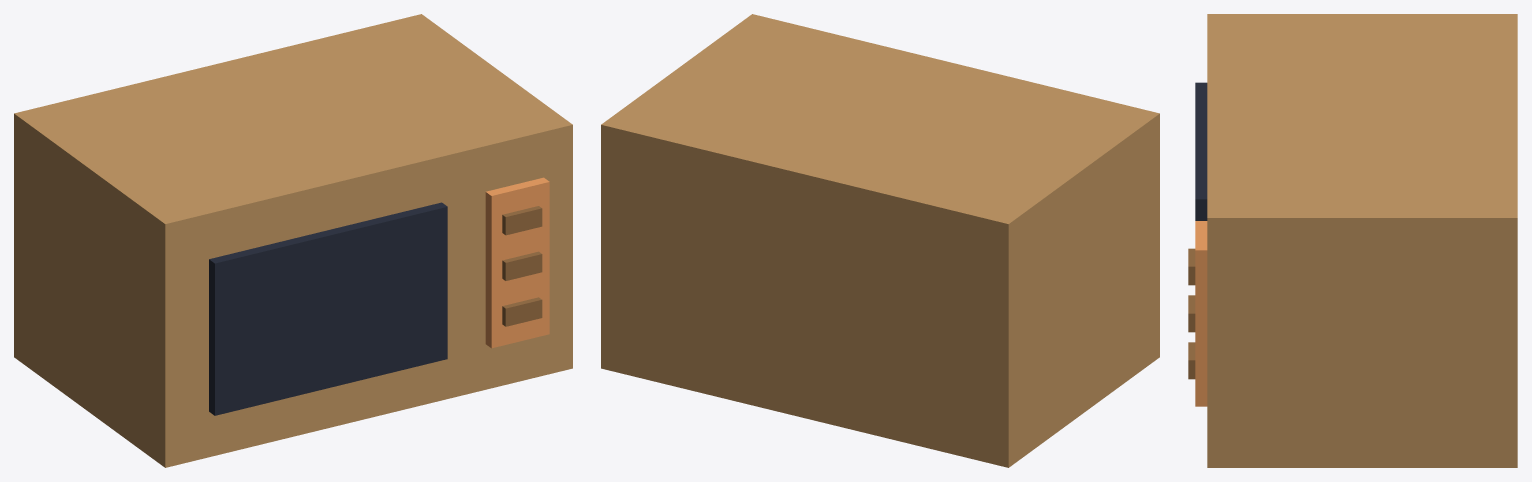
File: microwave.glb
3 renders of one model, left to right at view 1: azimuth 30°, elevation 25°; view 2: azimuth 150°, elevation 25°; view 3: azimuth 270°, elevation 25°, orthographic. The views are drawn at different scales.
Parts seen in each view (by area): view 1: microwave; view 2: microwave; view 3: microwave.
Boxes of the visible parts, left/top/right/bottom form: microwave: left=14, top=14, right=572, bottom=467; microwave: left=601, top=14, right=1159, bottom=467; microwave: left=1188, top=14, right=1517, bottom=467.
Size of the model in its own units: 28 by 16 by 19.1.
